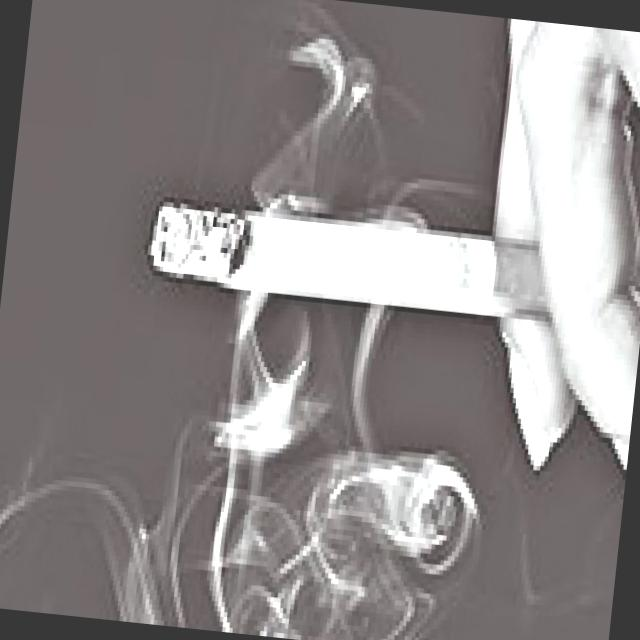cigarette: (145, 184, 570, 336)
